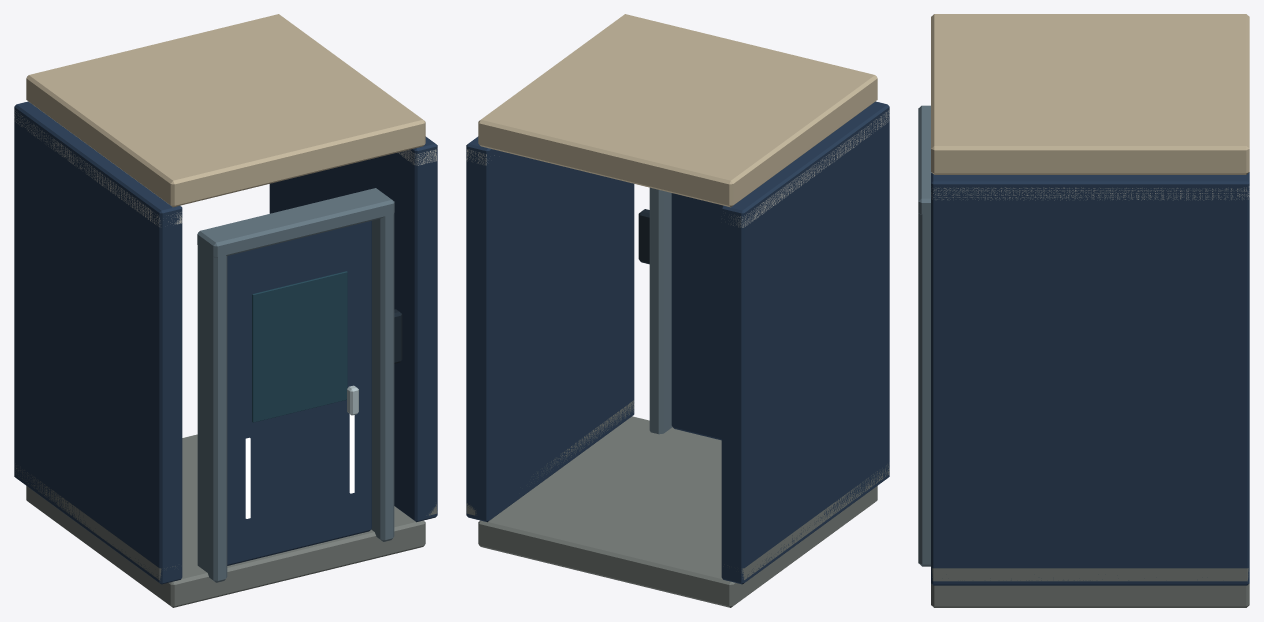
The model's file is architecture-airlock.lod0.glb.
3 renders of one model, left to right at view 1: azimuth 30°, elevation 25°; view 2: azimuth 150°, elevation 25°; view 3: azimuth 270°, elevation 25°, orthographic. The views are drawn at different scales.
Visible parts, largest first — view 1: architecture-airlock__body, architecture-airlock__door; view 2: architecture-airlock__body, architecture-airlock__door; view 3: architecture-airlock__body.
Boxes of the visible parts, x1,y1,x2,y2 form: architecture-airlock__body: (14,14,437,607); architecture-airlock__door: (227,221,371,565); architecture-airlock__body: (466,14,889,607); architecture-airlock__door: (671,193,723,440); architecture-airlock__body: (918,14,1249,607).
Size of the model in its own units: 2.18 by 3.2 by 2.08.
